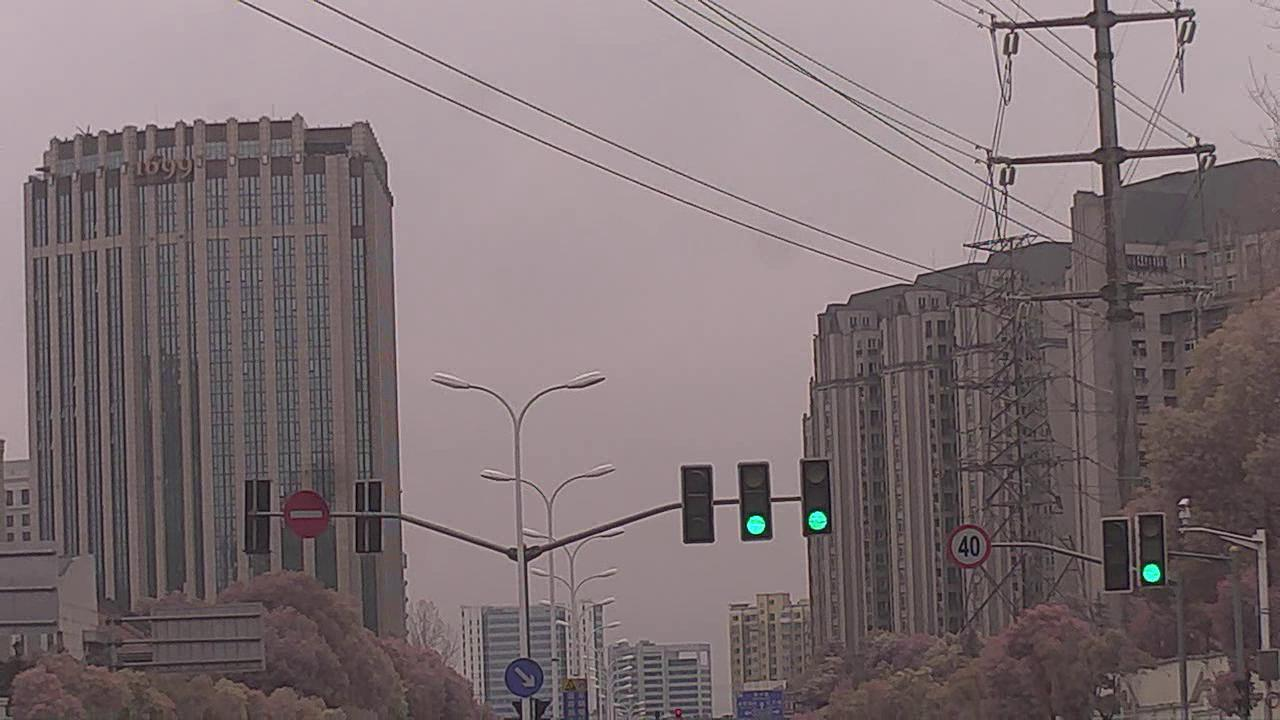traffic_light: (736, 461, 775, 543), (680, 462, 718, 545), (802, 456, 831, 538), (1103, 516, 1133, 592), (1140, 515, 1166, 586)
